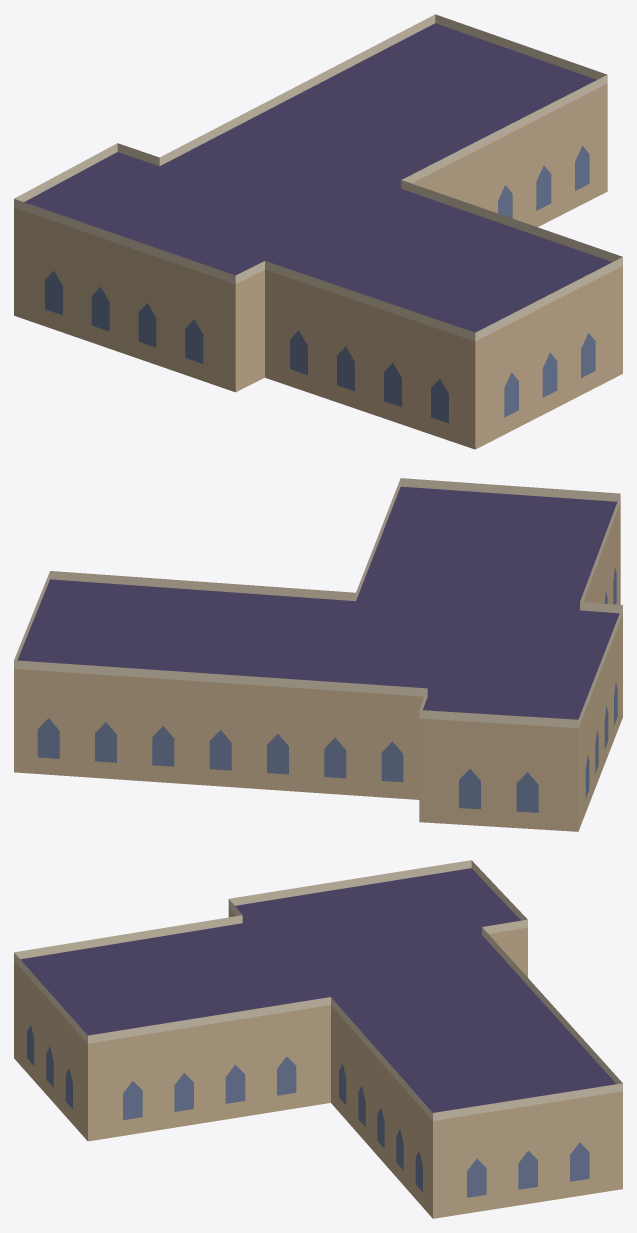
File: b-038-brescia-university-college-day.glb
The picture shows the model from 3 angles, top to bottom: view 1: azimuth 30°, elevation 25°; view 2: azimuth 150°, elevation 25°; view 3: azimuth 270°, elevation 25°; orthographic projection. The views are drawn at different scales.
Visible parts, largest first — view 1: campus/b-038-brescia-university-college-day-0; view 2: campus/b-038-brescia-university-college-day-0; view 3: campus/b-038-brescia-university-college-day-0.
Boxes of the visible parts, x1,y1,x2,y2 form: campus/b-038-brescia-university-college-day-0: (14,14,622,449); campus/b-038-brescia-university-college-day-0: (14,478,622,831); campus/b-038-brescia-university-college-day-0: (14,860,622,1218).
Bounding box in the file's own units: 37.12 × 7.25 × 37.78.
